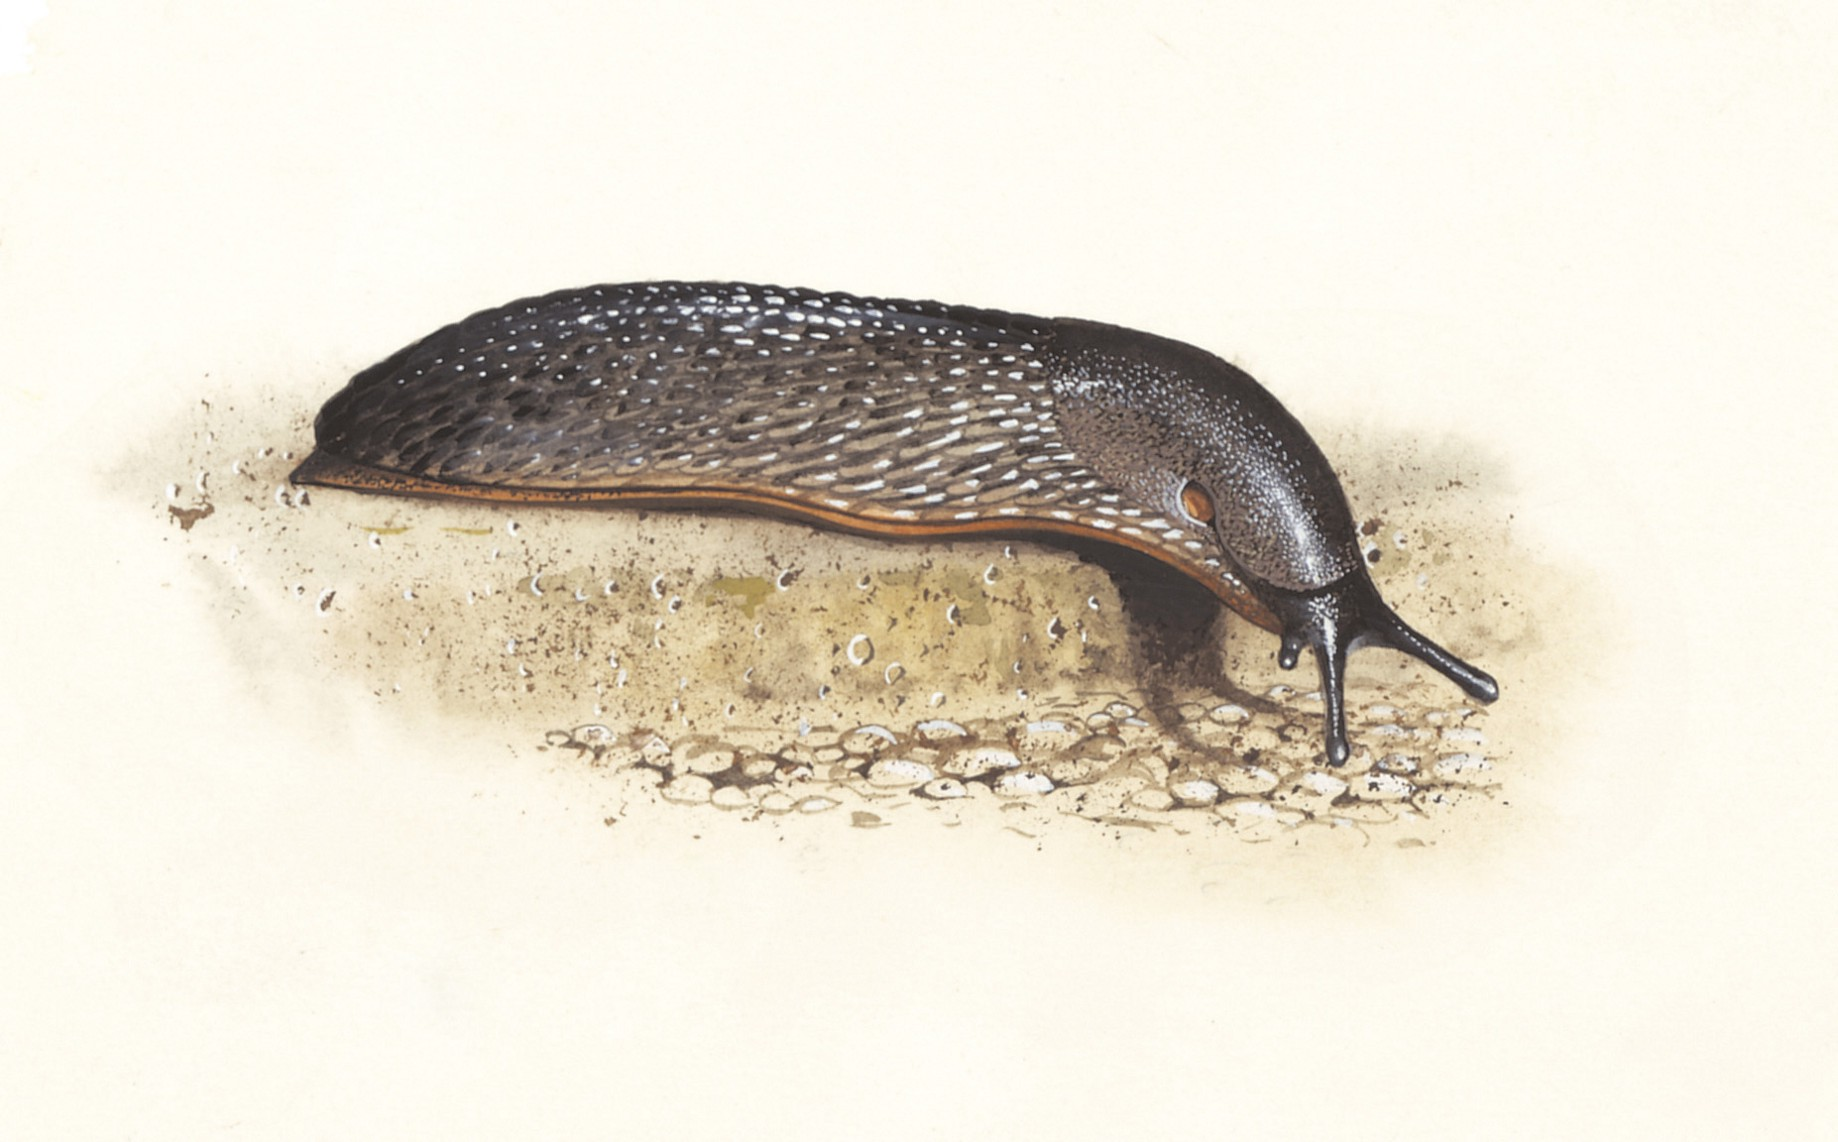slug: (287, 283, 1500, 767)
